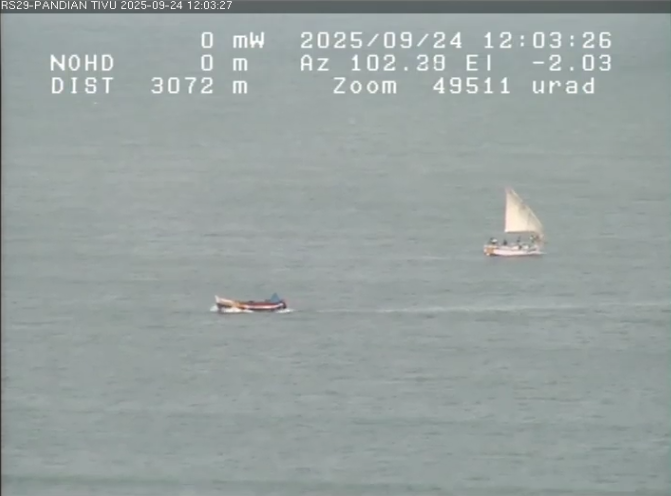FISHING_BOAT: (191, 276, 305, 329)
SAIL_BOAT: (471, 177, 555, 272)
